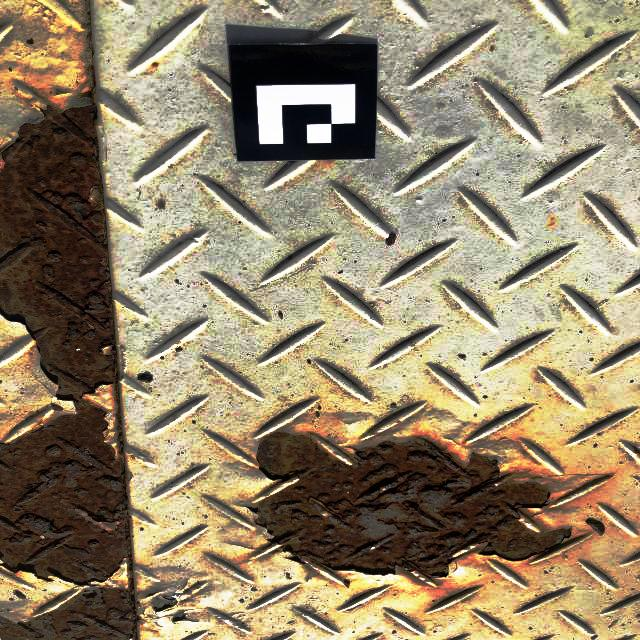Corrosion: (0, 59, 125, 587), (247, 432, 571, 586), (0, 578, 138, 640)
